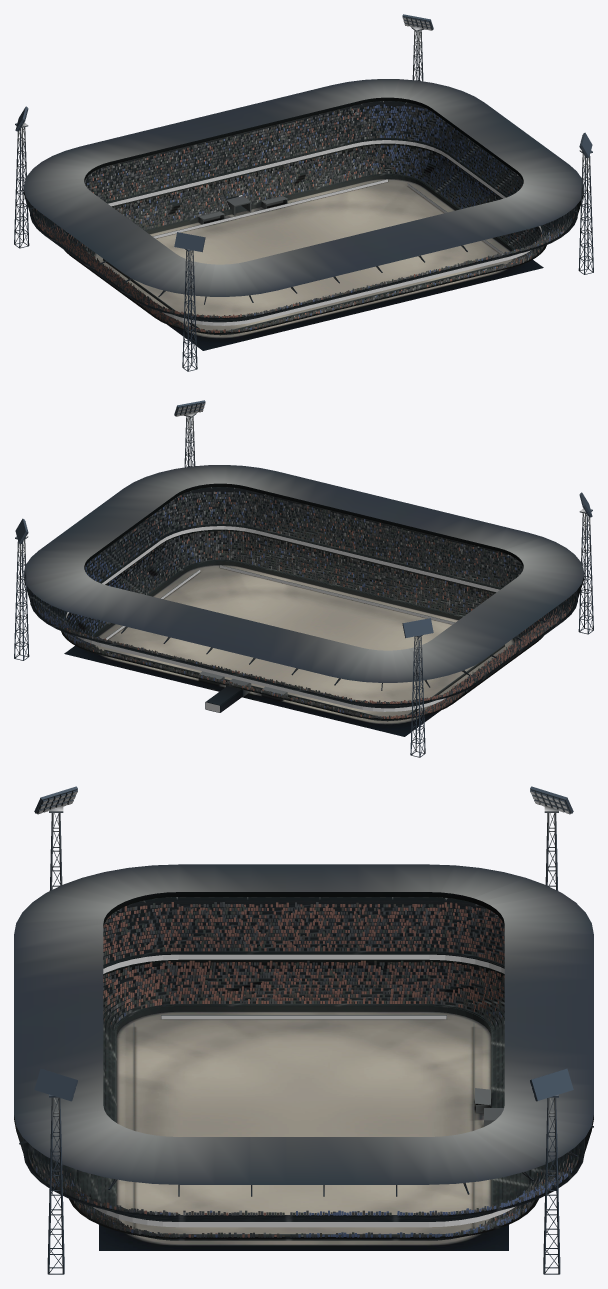
The model's file is stadium_baked.glb.
The picture shows the model from 3 angles, top to bottom: view 1: azimuth 30°, elevation 25°; view 2: azimuth 150°, elevation 25°; view 3: azimuth 270°, elevation 25°; orthographic projection. The views are drawn at different scales.
Size of the model in its own units: 170 by 48.47 by 130.
10 materials, 3 textured.
